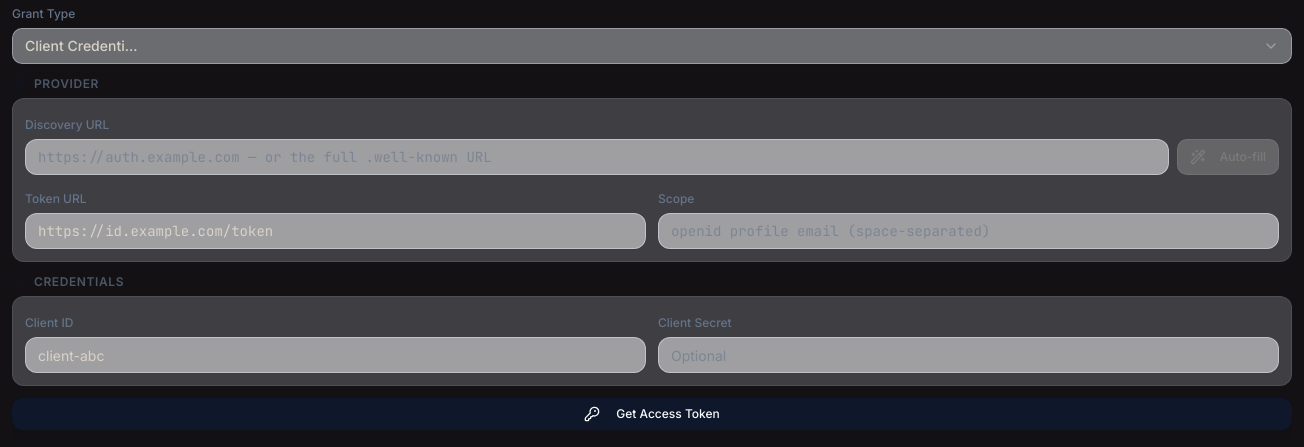
Test: cancelling an authorization code flow › does not offer cancel for client credentials, which never waits on a browser
Click the button "Get Access Token" at {"x": 652, "y": 414}, box left=12, top=398, right=1292, bottom=430
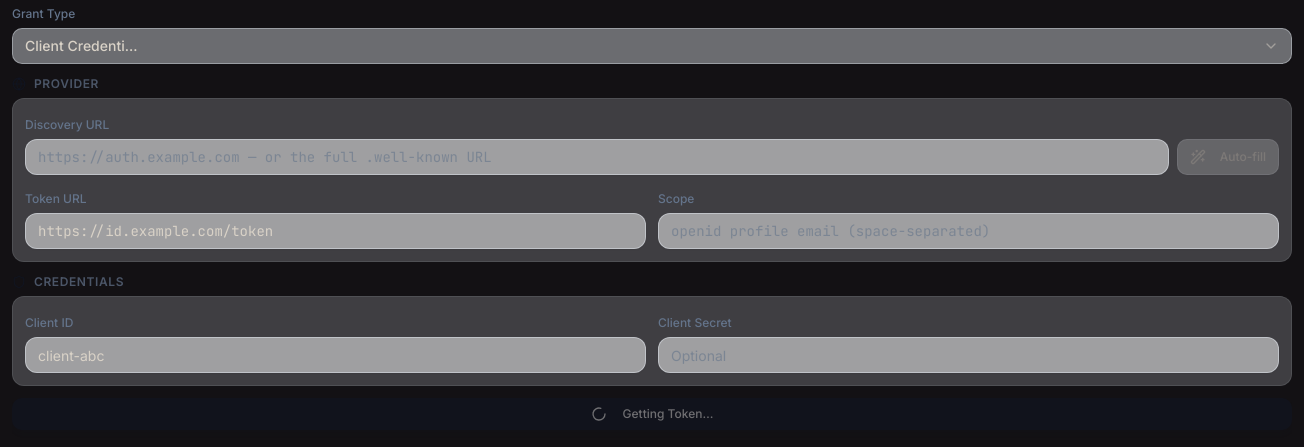
Expected: the button "Getting Token…" is shown, left=12, top=398, right=1292, bottom=430
